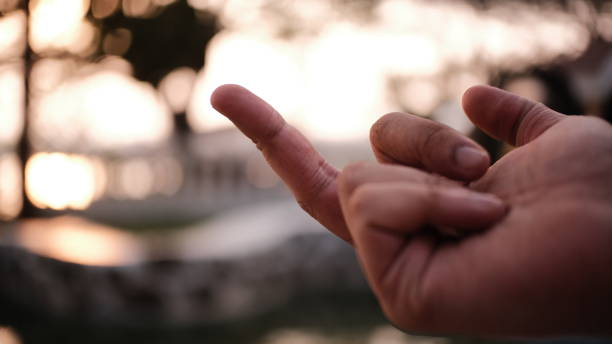insulting_gesture: (211, 84, 612, 344)
